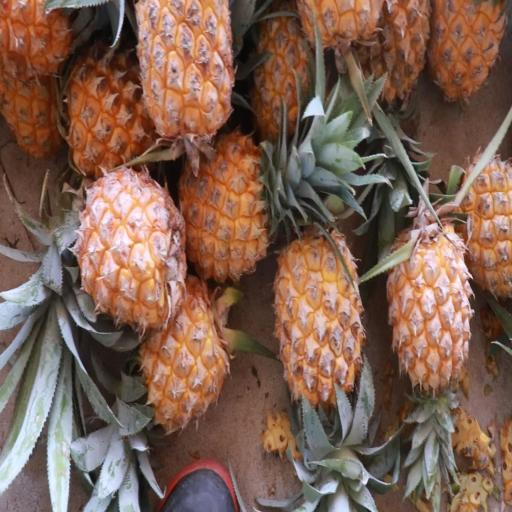Pineapple - v8 v1: (270, 218, 367, 435), (384, 205, 475, 426), (74, 162, 189, 336), (172, 122, 278, 288), (137, 265, 231, 434), (64, 30, 166, 183), (136, 0, 237, 148), (430, 0, 506, 104), (464, 147, 512, 307)
